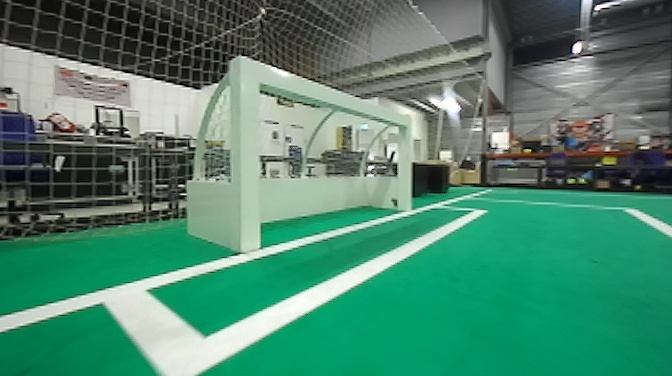goalpost: (225, 53, 267, 249), (394, 106, 416, 223)
